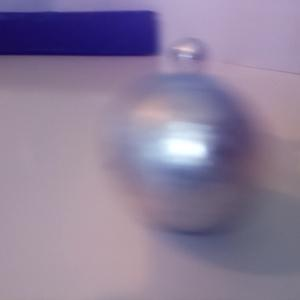zone: (1, 10, 161, 58)
